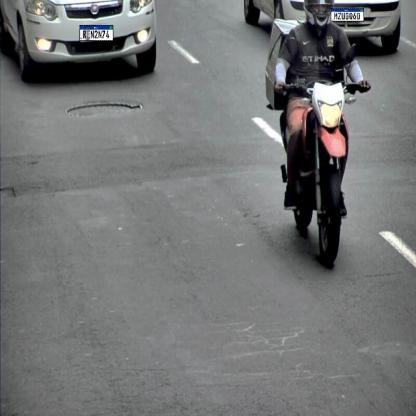PlacaM: (80, 25, 114, 41), (331, 8, 364, 22)
